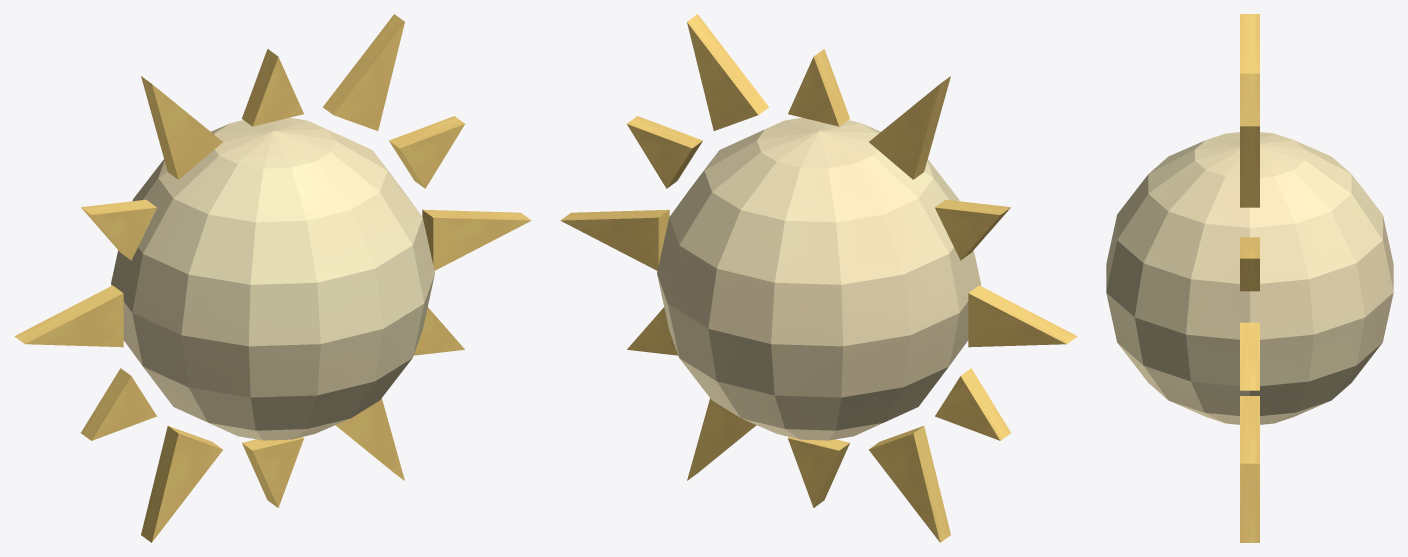
The model's file is sun.obj.
3 views of the same model, side by side, from view 1: azimuth 30°, elevation 25°; view 2: azimuth 150°, elevation 25°; view 3: azimuth 270°, elevation 25° (orthographic). The views are drawn at different scales.
Visible parts, largest first — view 1: sun, sun_rays; view 2: sun, sun_rays; view 3: sun, sun_rays.
Part boxes in pixels (x1=…): sun: x1=111, y1=117, x2=434, y2=440; sun_rays: x1=14, y1=14, x2=531, y2=542; sun: x1=657, y1=117, x2=980, y2=440; sun_rays: x1=560, y1=14, x2=1077, y2=542; sun: x1=1106, y1=132, x2=1393, y2=424; sun_rays: x1=1240, y1=14, x2=1259, y2=542.
Bounding box in the file's own units: 10.8 × 9.35 × 5.85.
Materials: 1 (1 with a texture image).
